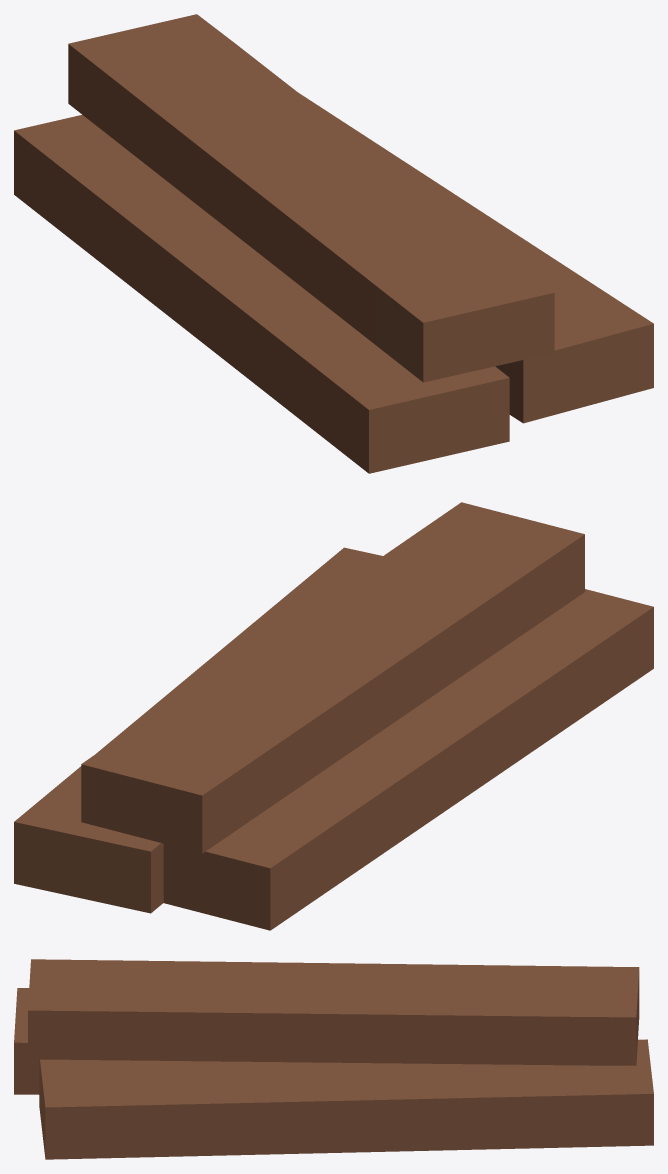
File: Planks.fbx
3 renders of one model, top to bottom at view 1: azimuth 30°, elevation 25°; view 2: azimuth 150°, elevation 25°; view 3: azimuth 270°, elevation 25°, orthographic. The views are drawn at different scales.
Visible parts, largest first — view 1: Planks; view 2: Planks; view 3: Planks.
Part boxes in pixels (bbox=[...]): Planks: bbox=[14, 14, 653, 473]; Planks: bbox=[14, 502, 653, 930]; Planks: bbox=[14, 959, 653, 1159].
Size of the model in its own units: 66.22 by 27.22 by 150.
